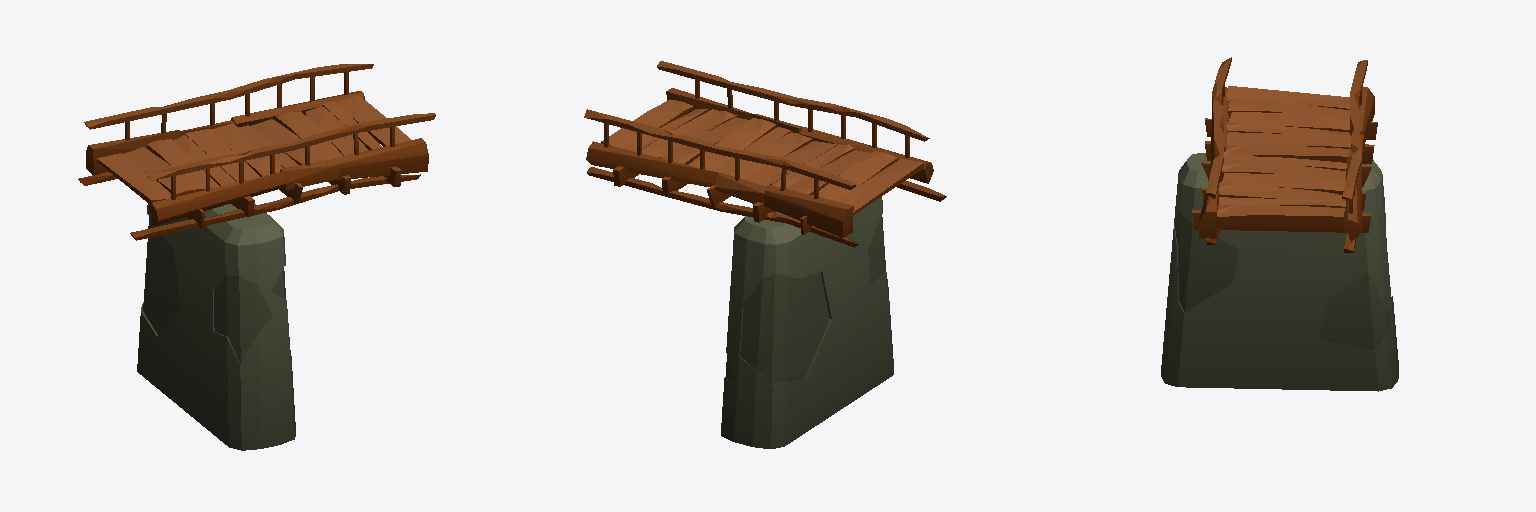
The picture shows the model from 3 angles: view 1: azimuth 30°, elevation 25°; view 2: azimuth 150°, elevation 25°; view 3: azimuth 270°, elevation 25°; orthographic projection.
Visible parts, largest first — view 1: Bridge1, Bridgesupport1; view 2: Bridgesupport1, Bridge1; view 3: Bridgesupport1, Bridge1.
Part boxes in pixels (x1,y1,x2,y2): Bridge1: (78,64,435,240); Bridgesupport1: (137,203,295,450); Bridgesupport1: (721,197,893,448); Bridge1: (584,61,946,247); Bridgesupport1: (1161,153,1398,391); Bridge1: (1192,57,1377,252).
Bounding box in the file's own units: 26.42 × 22.99 × 18.21.
2 materials, 2 textured.